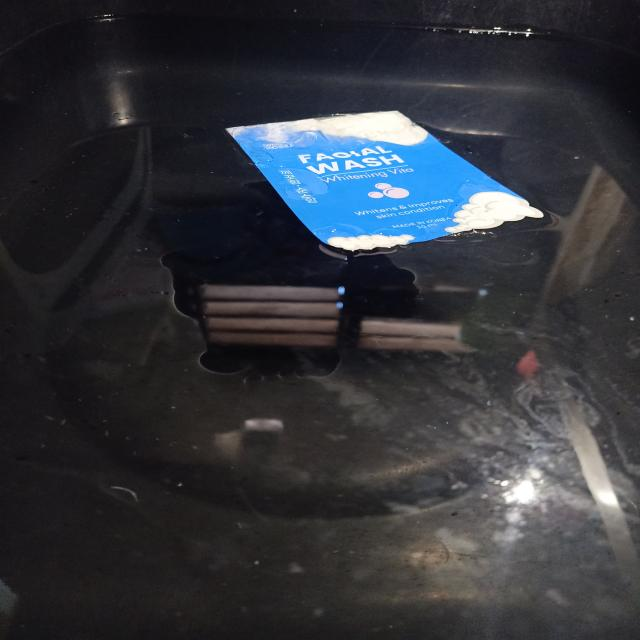Plastic Wrapper: (226, 111, 543, 261)
